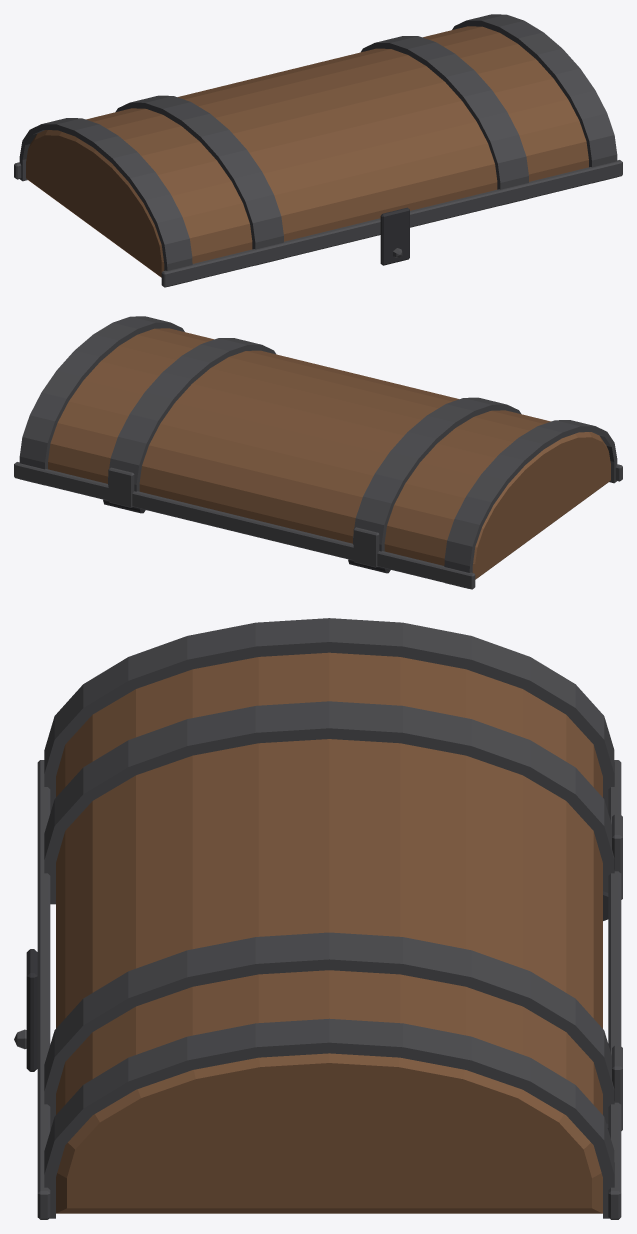
Rendered from chest_lid.glb.
The picture shows the model from 3 angles, top to bottom: view 1: azimuth 30°, elevation 25°; view 2: azimuth 150°, elevation 25°; view 3: azimuth 270°, elevation 25°; orthographic projection. The views are drawn at different scales.
Visible parts, largest first — view 1: chest_lid; view 2: chest_lid; view 3: chest_lid.
Part boxes in pixels (bbox=[...]): chest_lid: bbox=[14, 14, 622, 287]; chest_lid: bbox=[14, 316, 622, 589]; chest_lid: bbox=[14, 618, 622, 1219].
Size of the model in its own units: 1.12 by 0.278 by 0.668.
